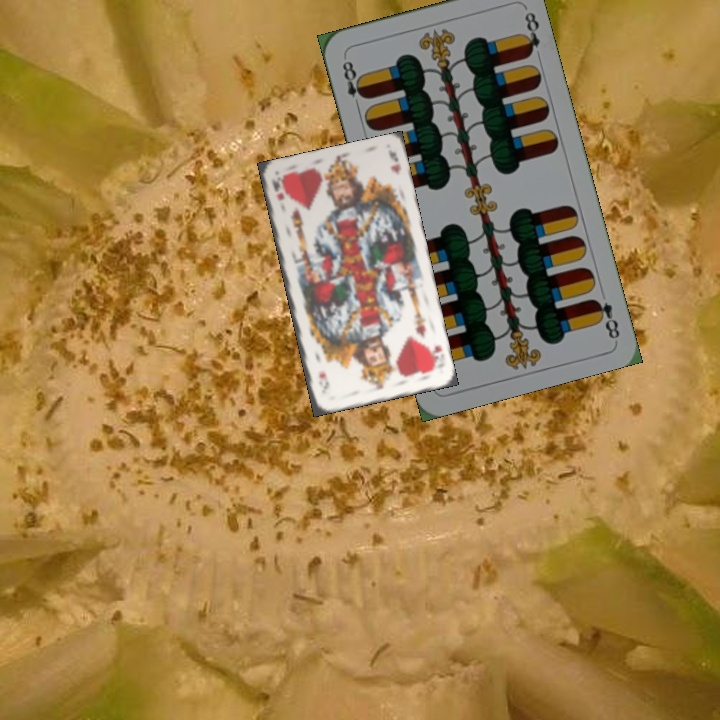E8: (589, 284, 623, 341), (338, 57, 369, 112)
HK: (425, 340, 445, 372), (268, 174, 287, 203)
